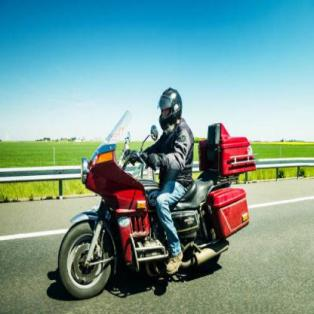Motocicleta: (57, 133, 242, 300)
